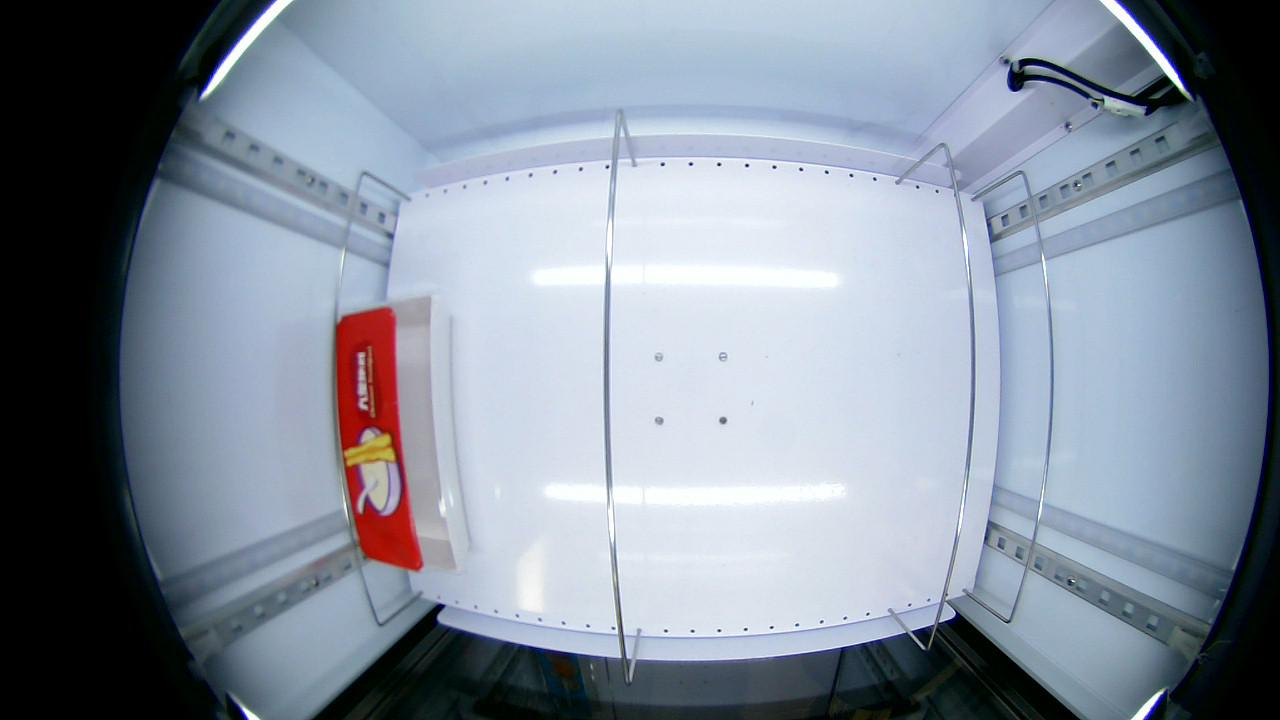goods: (346, 424, 409, 526)
